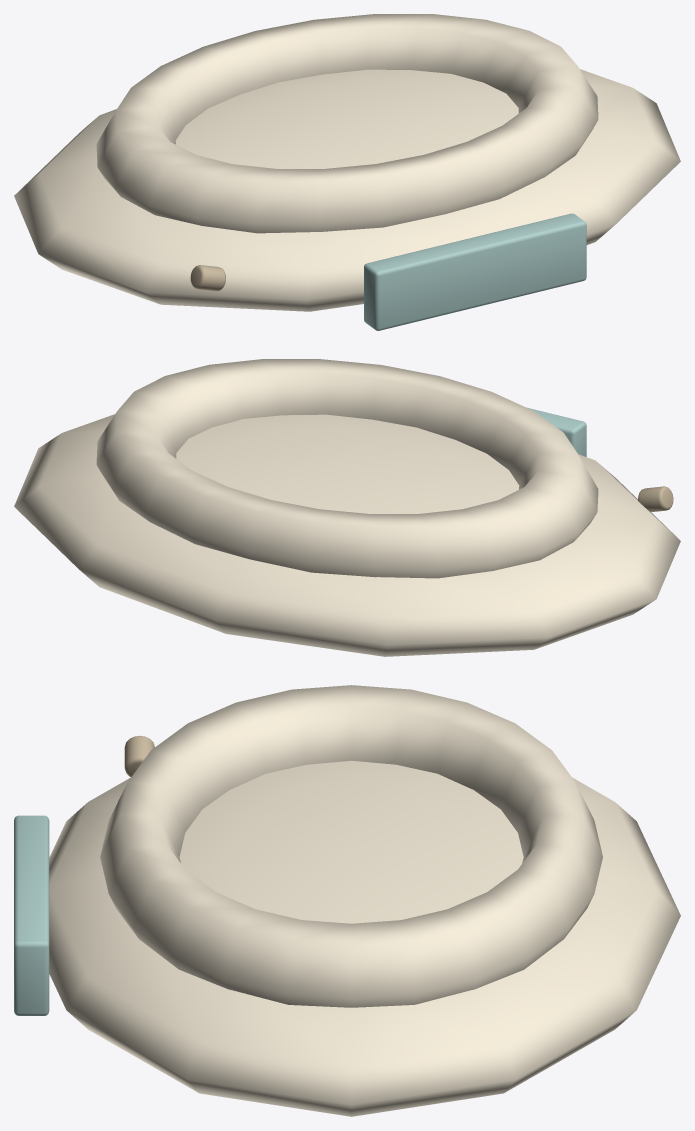
File: ration-empty.glb
3 renders of one model, top to bottom at view 1: azimuth 30°, elevation 25°; view 2: azimuth 150°, elevation 25°; view 3: azimuth 270°, elevation 25°, orthographic. The views are drawn at different scales.
Visible parts, largest first — view 1: Padded ration sack.002, Rolled fabric mouth.002, Diet label.002, Stitched sack seam.002; view 2: Padded ration sack.002, Rolled fabric mouth.002, Diet label.002, Stitched sack seam.002; view 3: Padded ration sack.002, Rolled fabric mouth.002, Diet label.002, Stitched sack seam.002.
Part boxes in pixels (x1,y1,x2,y2): Padded ration sack.002: (14,69,680,311); Rolled fabric mouth.002: (96,14,598,233); Diet label.002: (364,213,586,330); Stitched sack seam.002: (190,265,225,291); Padded ration sack.002: (14,414,680,656); Rolled fabric mouth.002: (96,359,598,578); Diet label.002: (527,407,586,456); Stitched sack seam.002: (638,486,673,512); Padded ration sack.002: (49,760,680,1116); Rolled fabric mouth.002: (100,685,602,1007); Diet label.002: (14,815,49,1015); Stitched sack seam.002: (124,735,154,776).
Size of the model in its own units: 0.76 by 0.159 by 0.567.
